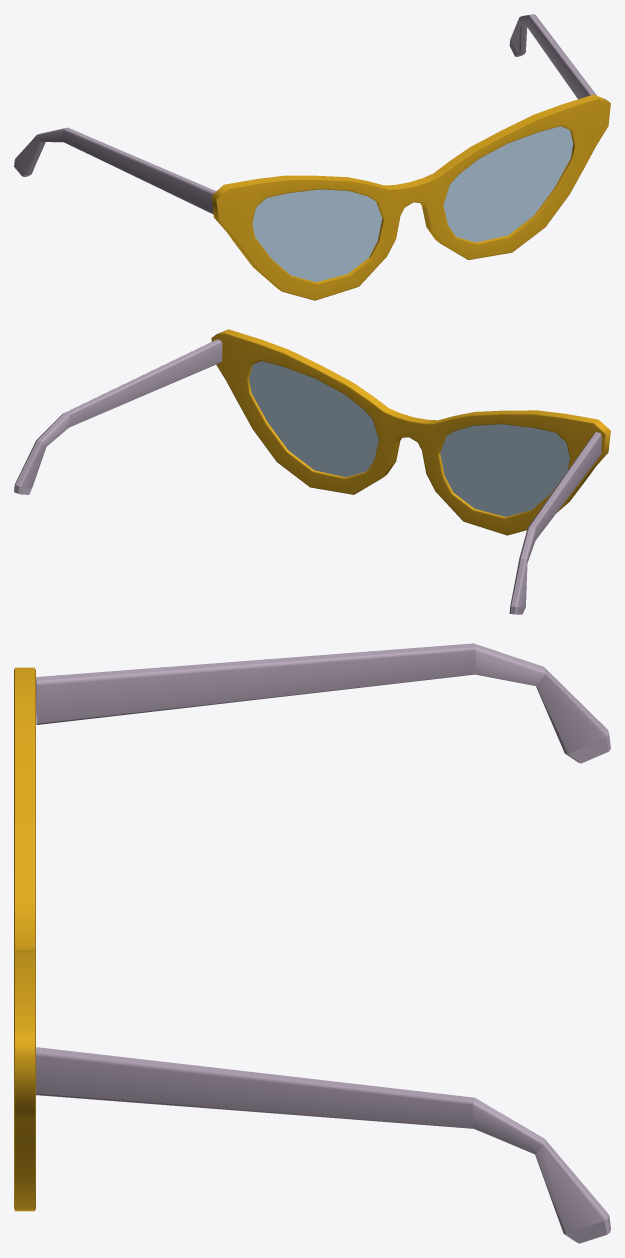
Rendered from Glasses_14_03.fbx.
3 renders of one model, top to bottom at view 1: azimuth 30°, elevation 25°; view 2: azimuth 150°, elevation 25°; view 3: azimuth 270°, elevation 25°, orthographic. The views are drawn at different scales.
Visible parts, largest first — view 1: Glasses_14_03; view 2: Glasses_14_03; view 3: Glasses_14_03.
Boxes of the visible parts, bbox=[...] form: Glasses_14_03: bbox=[14, 14, 610, 300]; Glasses_14_03: bbox=[14, 329, 610, 614]; Glasses_14_03: bbox=[14, 643, 610, 1243].
Bounding box in the file's own units: 39.16 × 9.93 × 20.12.
